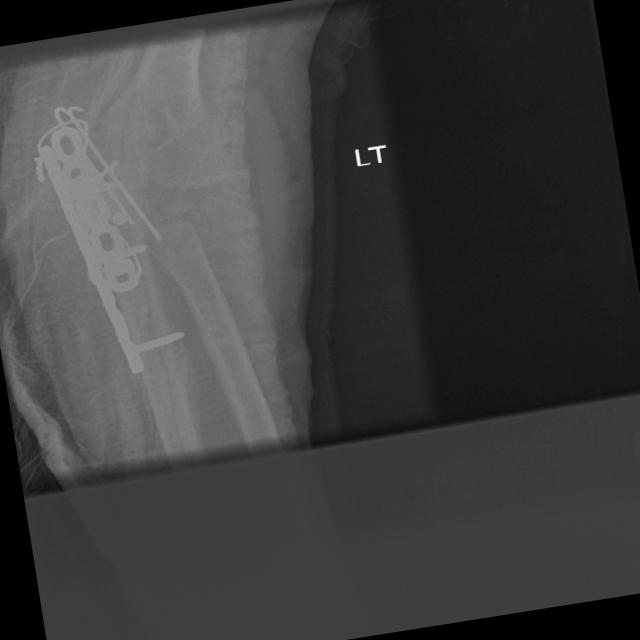elbow positive: (99, 212, 183, 345)
